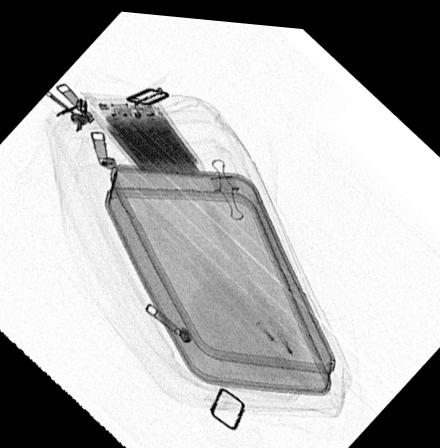Powerbank: (88, 96, 210, 179)
